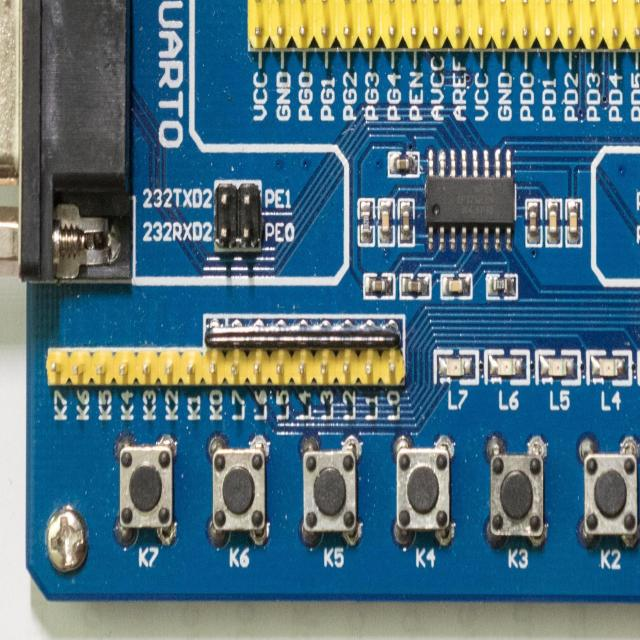IC: (424, 148, 516, 252)
LED: (587, 348, 632, 386), (537, 349, 583, 383), (484, 350, 529, 383), (437, 351, 478, 383), (637, 350, 640, 388)
button: (391, 432, 456, 548), (299, 434, 363, 550), (205, 435, 269, 548), (115, 434, 179, 546), (576, 436, 640, 547), (487, 436, 548, 552)
capacitor: (544, 198, 563, 248), (564, 198, 583, 248), (399, 272, 432, 300), (525, 198, 543, 248), (363, 272, 395, 300), (378, 198, 395, 248), (440, 274, 472, 300), (398, 200, 414, 248), (388, 153, 419, 177)
connector: (0, 0, 138, 286), (246, 0, 640, 52), (45, 345, 406, 388), (213, 184, 262, 252)
resistor: (486, 274, 519, 300), (358, 198, 375, 246)
